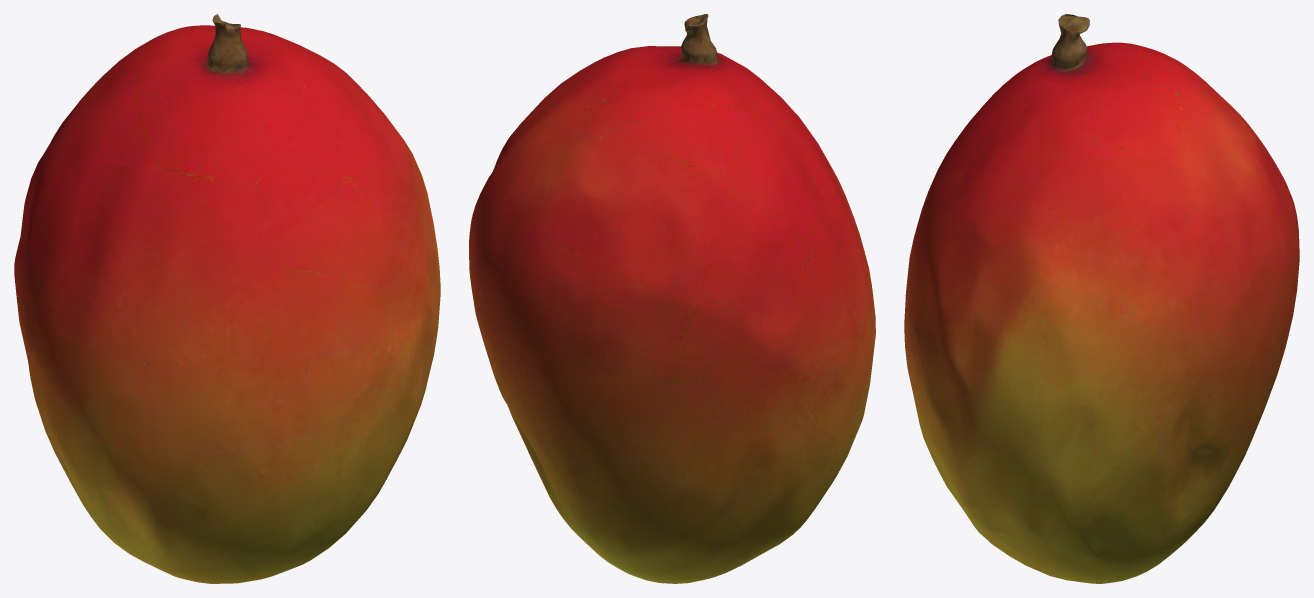
File: Mango.glb
3 renders of one model, left to right at view 1: azimuth 30°, elevation 25°; view 2: azimuth 150°, elevation 25°; view 3: azimuth 270°, elevation 25°, orthographic. The views are drawn at different scales.
Visible parts, largest first — view 1: mesh_node; view 2: mesh_node; view 3: mesh_node.
Boxes of the visible parts, box(x1,y1,x2,y2) form: mesh_node: box(14, 14, 440, 583); mesh_node: box(469, 14, 875, 583); mesh_node: box(904, 14, 1299, 583).
Bounding box in the file's own units: 1.28 × 1.9 × 1.24.
Materials: 1 (1 with a texture image).
